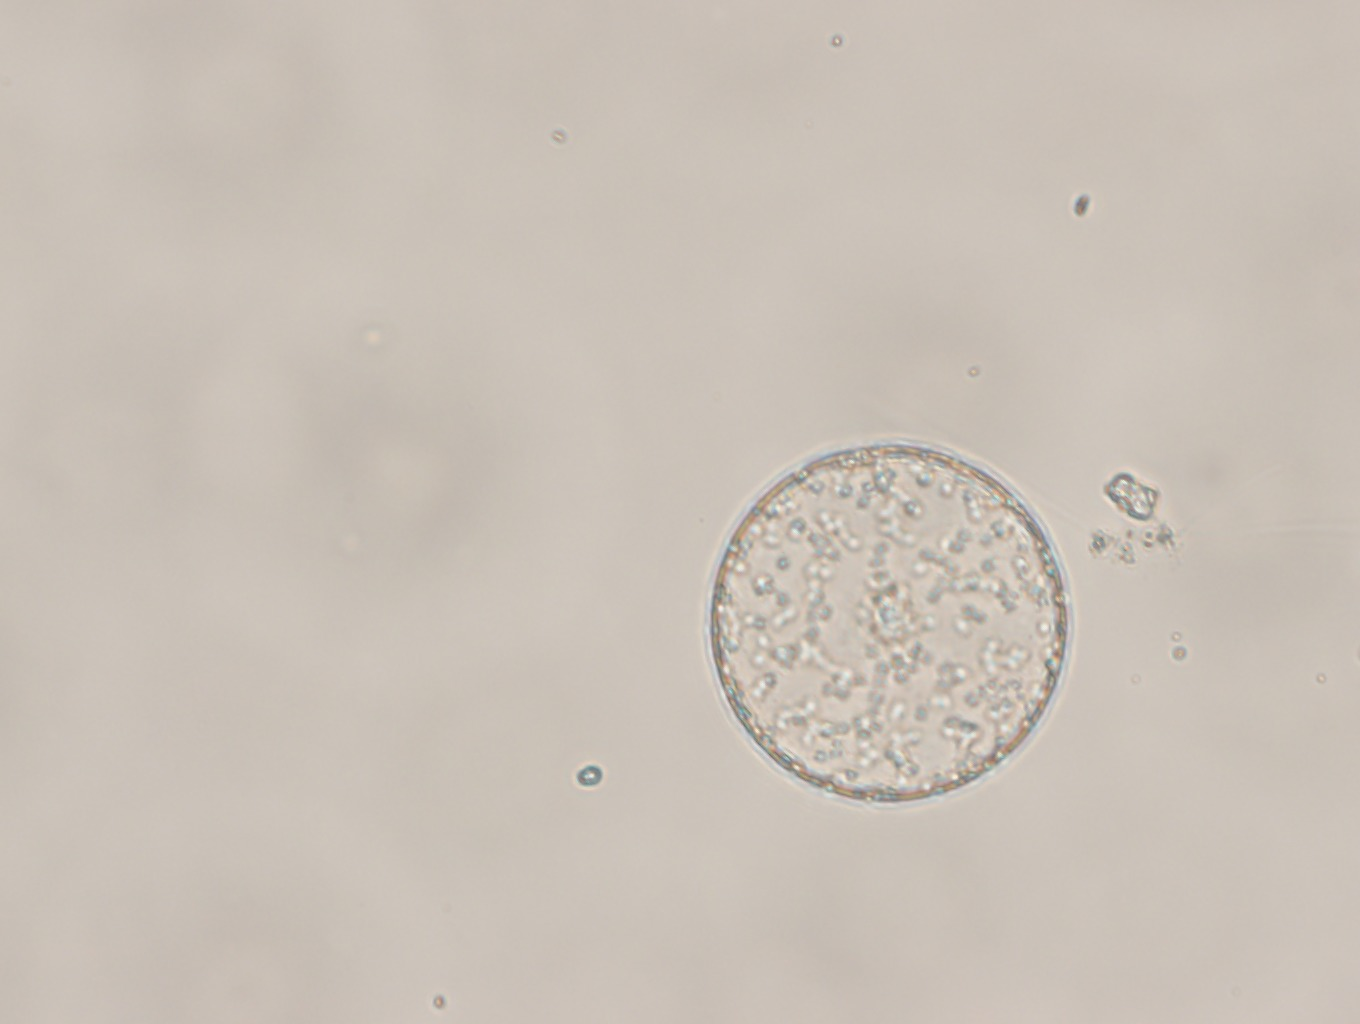coscinodiscus: (697, 433, 1077, 815)
